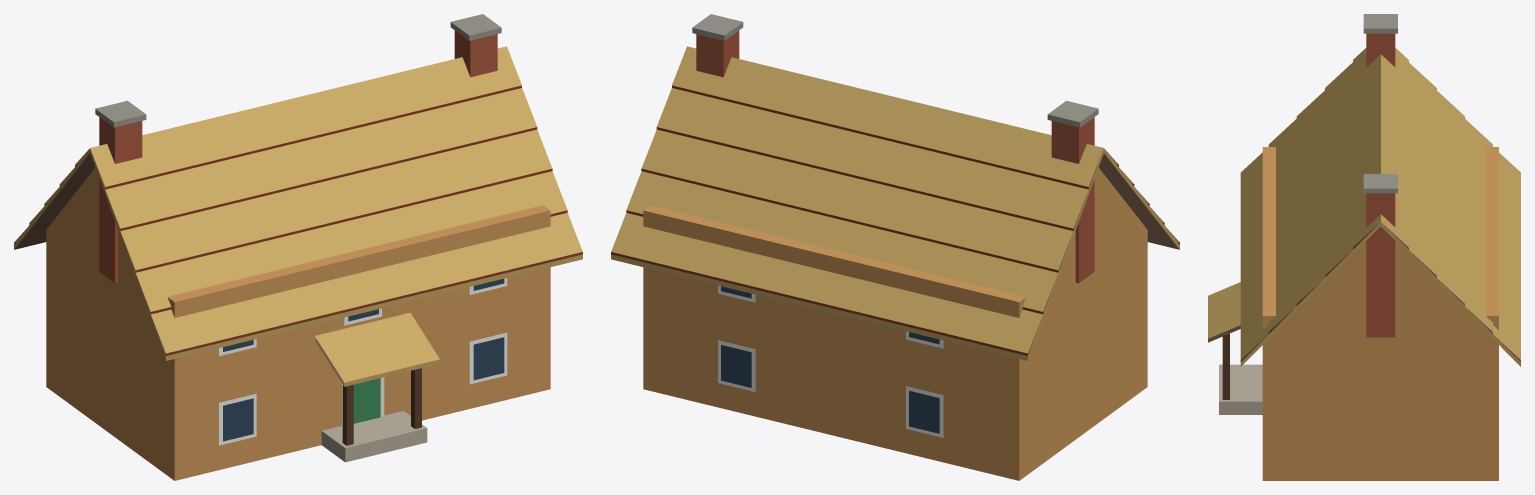
Rendered from cottage_anglais.glb.
3 views of the same model, side by side, from view 1: azimuth 30°, elevation 25°; view 2: azimuth 150°, elevation 25°; view 3: azimuth 270°, elevation 25° (orthographic). The views are drawn at different scales.
Visible parts, largest first — view 1: cottage_anglais; view 2: cottage_anglais; view 3: cottage_anglais.
Part boxes in pixels (x1=…): cottage_anglais: x1=14, y1=14, x2=582, y2=480; cottage_anglais: x1=611, y1=14, x2=1179, y2=480; cottage_anglais: x1=1208, y1=14, x2=1520, y2=480.
Bounding box in the file's own units: 12.2 × 8.95 × 8.6.
Materials: 1 (1 with a texture image).
